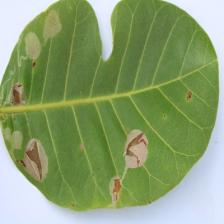leaf miner: (24, 13, 62, 62), (20, 134, 50, 182), (120, 128, 150, 172), (102, 174, 124, 204), (9, 80, 30, 111)
